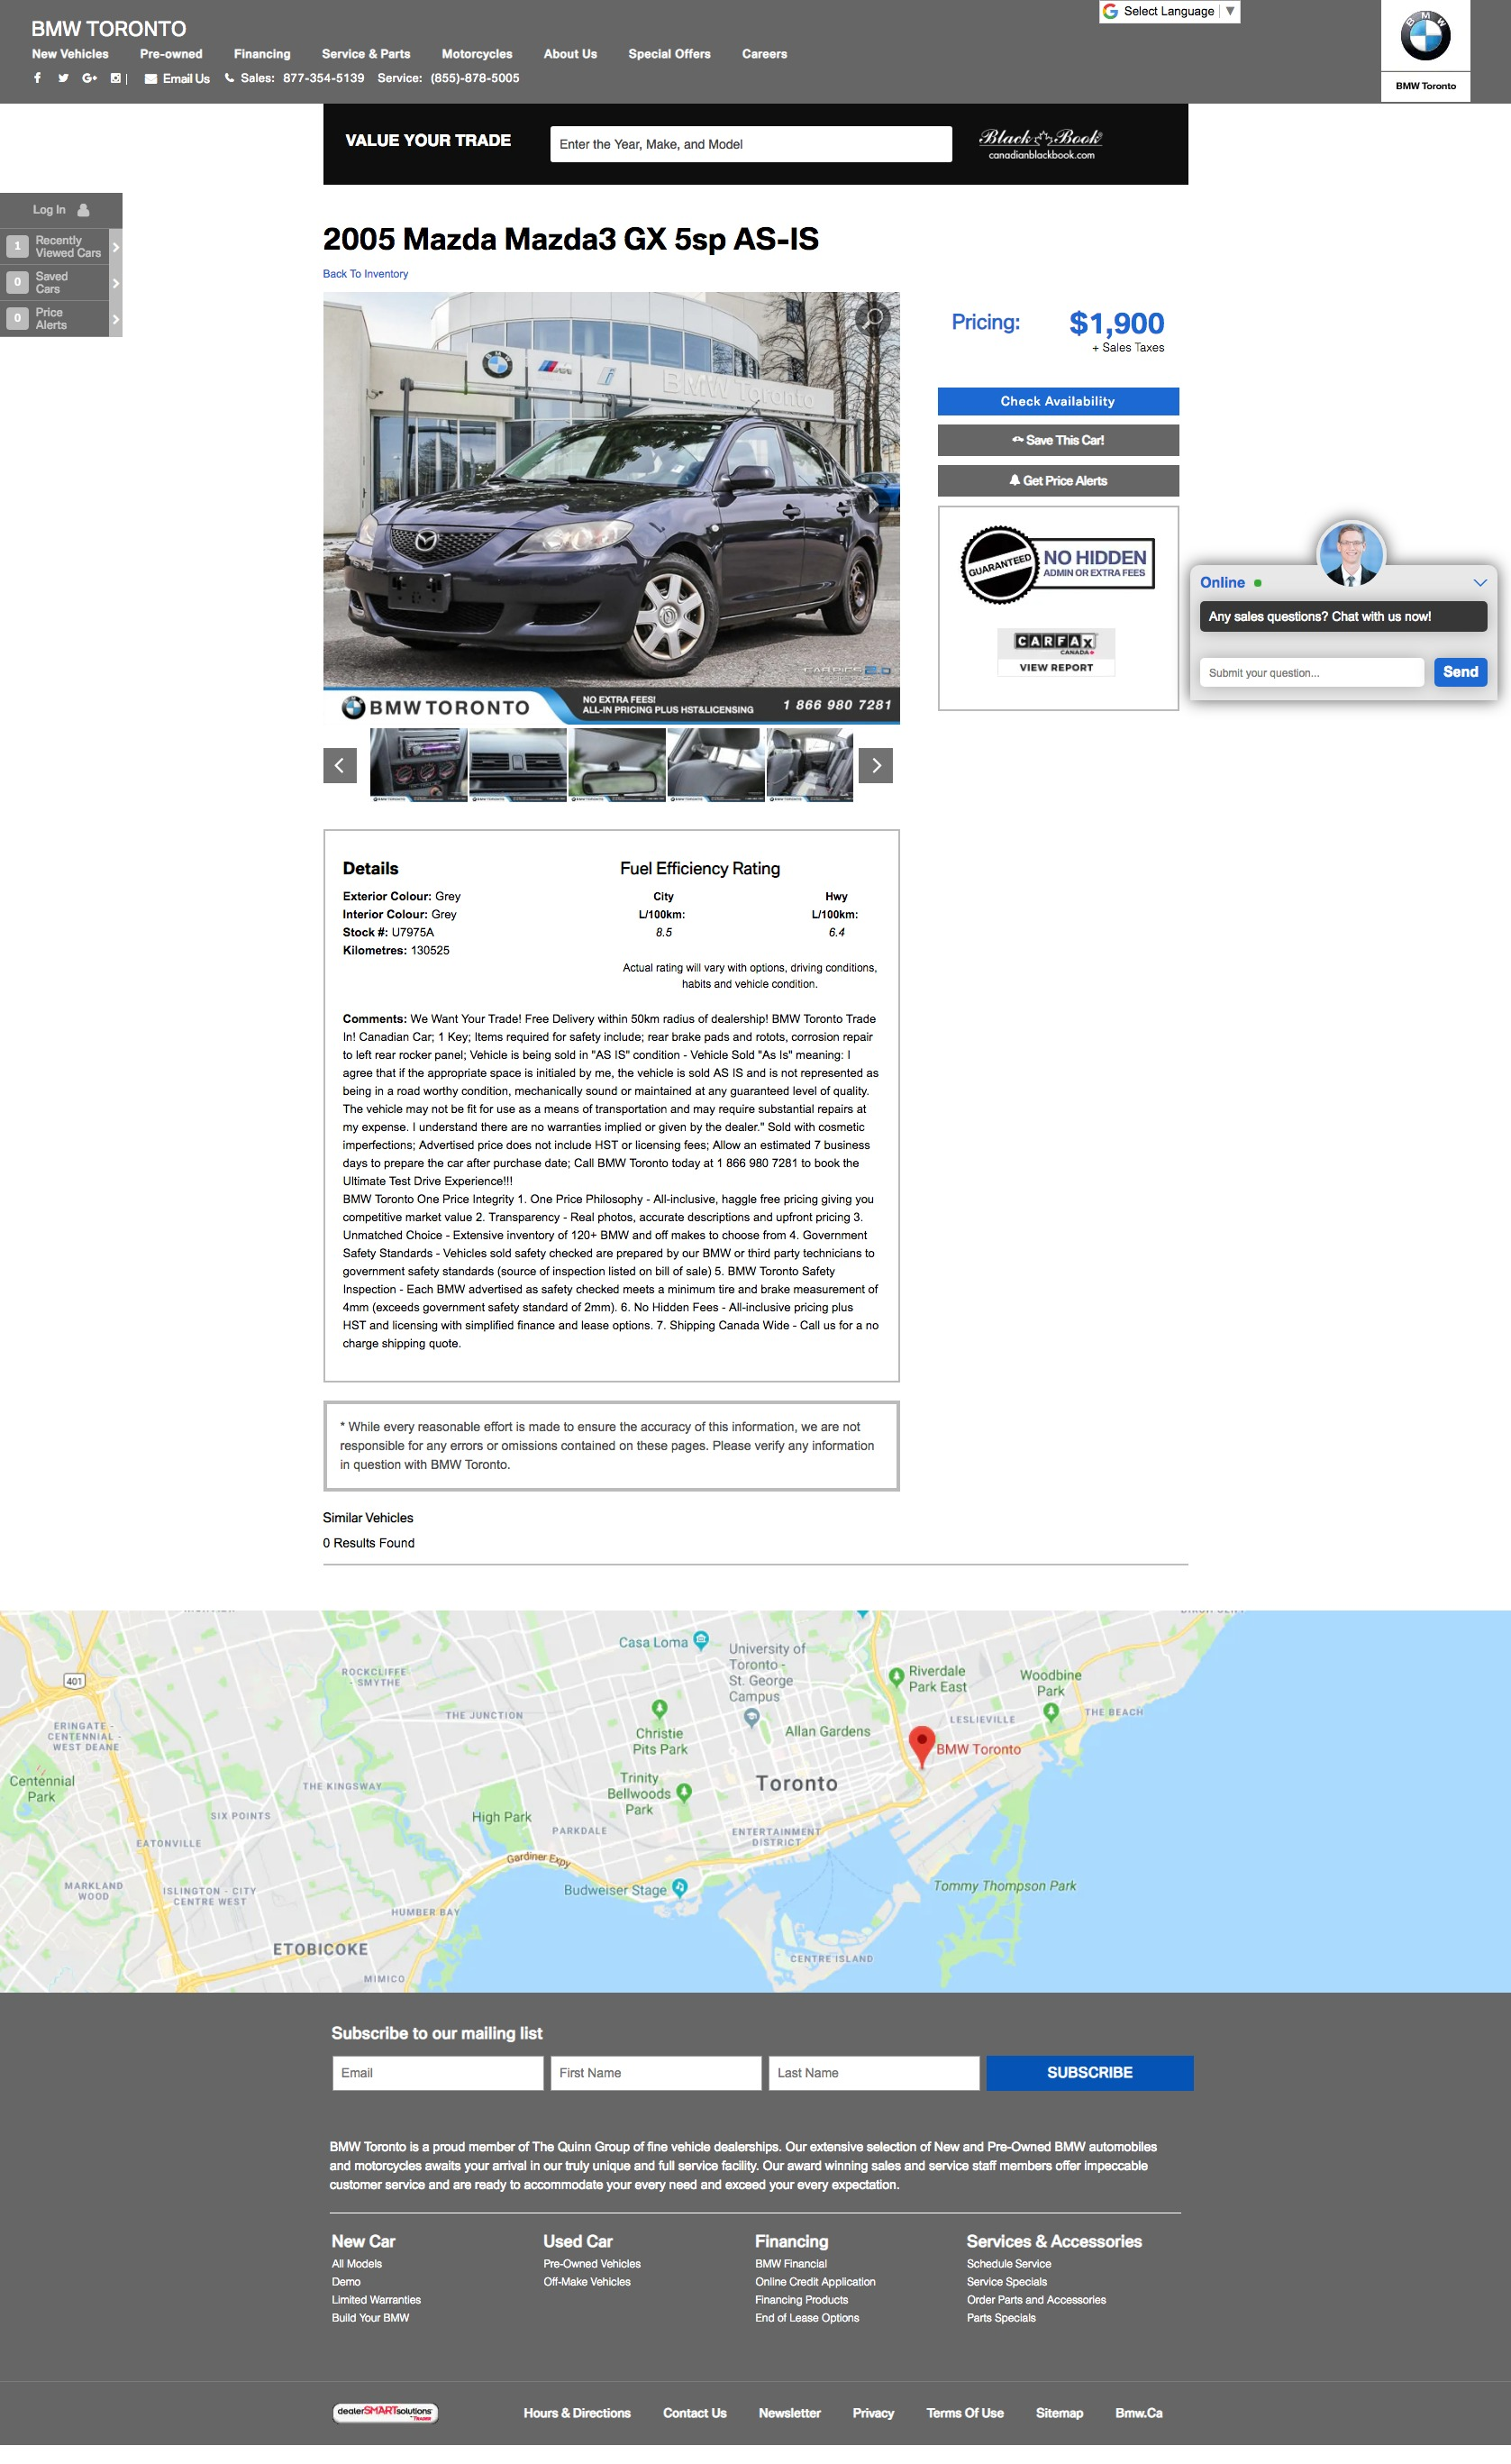car: (871, 760, 881, 773)
